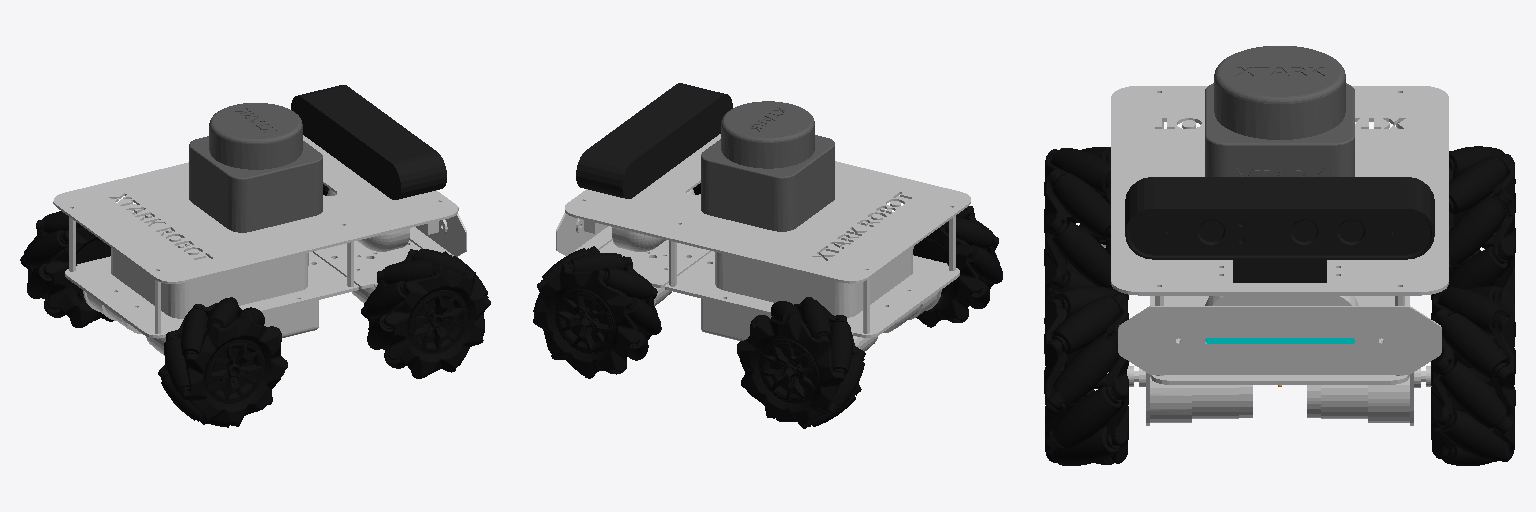
robot.urdf — tarkbot_robot:
<?xml version="1.0" encoding="utf-8"?>

<robot name="tarkbot_robot">

    <!-- 机器人底部中心原点 -->
    <link name="base_footprint">
        <visual>
            <geometry>
                <sphere radius="0.001" />
            </geometry>
        </visual>
    </link>

    <!-- 机器人底盘 -->
    <link name="base_link">
        <visual>
            <geometry>
                <mesh filename="package://tarkbot_description/meshes/base_r20_fwl.stl" />
            </geometry>
            <origin xyz="0 0 0" rpy="0 0 0" />
            <material name="base_color">
                <!-- <color rgba="0.000 0.500 0.500 1" /> -->
                <!-- <color rgba="0.000 0.000 1.000 1" /> -->
                <!-- <color rgba="1.000 0.500 0.000 1" /> -->
                <color rgba="0.800 0.800 0.800 1" />
            </material>
        </visual>
    </link>    

        <!-- 机器人轮子 -->
    <link name="wheel_fl">
        <visual>
            <geometry>
                <mesh filename="package://tarkbot_description/meshes/wheel/m100l.stl" />
            </geometry>
            <origin xyz="0 0 0" rpy="0 0 0" />
            <material name="wheel_color">
                <color rgba="0.1 0.1 0.1 1" />
            </material>
        </visual>
    </link>  

    <link name="wheel_fr">
        <visual>
            <geometry>
                <mesh filename="package://tarkbot_description/meshes/wheel/m100r.stl" />
            </geometry>
            <origin xyz="0 0 0" rpy="0 0 0" />
            <material name="wheel_color">
                <color rgba="0.1 0.1 0.1 1" />
            </material>
        </visual>
    </link>  

    <link name="wheel_bl">
        <visual>
            <geometry>
                <mesh filename="package://tarkbot_description/meshes/wheel/m100r.stl" />
            </geometry>
            <origin xyz="0 0 0" rpy="0 0 0" />
            <material name="wheel_color">
                <color rgba="0.1 0.1 0.1 1" />
            </material>
        </visual>
    </link>  

    <link name="wheel_br">
        <visual>
            <geometry>
                <mesh filename="package://tarkbot_description/meshes/wheel/m100l.stl" />
            </geometry>
            <origin xyz="0 0 0" rpy="0 0 0" />
            <material name="wheel_color">
                <color rgba="0.1 0.1 0.1 1" />
            </material>
        </visual>
    </link>  

    <!-- 机器人雷达 -->
    <link name="laser_link">
        <visual>
            <geometry>
                <mesh filename="package://tarkbot_description/meshes/laser.stl" />
            </geometry>
            <origin xyz="0 0 -0.06" rpy="0 0 0" />
            <material name="laser_color">
                <color rgba="0.4 0.4 0.4 1" />
            </material>
        </visual>
    </link> 

    <!-- 机器人摄像头 -->
    <link name="camera_link">
        <visual>
            <geometry>
                <mesh filename="package://tarkbot_description/meshes/depthcamera.stl" />
            </geometry>
            <origin xyz="-0.037 0 0" rpy="0 0 0" />
            <material name="camera_color">
                <color rgba="0.15 0.15 0.15 1" />
            </material>
        </visual>
    </link>

    <!-- 机器人IMU传感器 -->
    <link name="imu_link">
        <visual>
            <geometry>
                <sphere radius="0.010" />
            </geometry>
            <origin xyz="0 0 0" rpy="0 0 0" />
            <material name="imu_color">
                <color rgba="1 1 0 1" />
            </material>
        </visual>
    </link>

    <!-- 机器人前灯 -->
    <link name="light_link">
        <visual>
            <geometry>
                <mesh filename="package://tarkbot_description/meshes/light.stl" />
            </geometry>
            <origin xyz="0 0 0" rpy="0 0 0" />
            <material name="light_color">
                <color rgba="0.0 1.0 1.0 1" />
            </material>
        </visual>
    </link>

    <!-- 底盘与原点连接的关节 -->
    <joint name="baselink2footprint" type="fixed">
        <origin xyz="0 0 0.1155" rpy="0 0 0"/>
        <parent link="base_footprint" />
        <child  link="base_link" />
    </joint>

        <!-- 轮子到与底盘连接的关节 -->
    <joint name="wheelfl2base" type="fixed">
        <origin xyz="0.088 0.096 -0.069" rpy="0 0 1.57"/>
        <parent link="base_link" />
        <child  link="wheel_fl" />
    </joint>

    <joint name="wheelfr2base" type="fixed">
        <origin xyz="0.088 -0.096 -0.069" rpy="0 0 -1.57"/>
        <parent link="base_link" />
        <child  link="wheel_fr" />
    </joint>

    <joint name="wheelbl2base" type="fixed">
        <origin xyz="-0.088 0.096 -0.069" rpy="0 0 1.57"/>
        <parent link="base_link" />
        <child  link="wheel_bl" />
    </joint>

    <joint name="wheelbr2base" type="fixed">
        <origin xyz="-0.088 -0.096 -0.069" rpy="0 0 -1.57"/>
        <parent link="base_link" />
        <child  link="wheel_br" />
    </joint>

    <!-- 雷达到与底盘连接的关节 -->
    <joint name="laser2base" type="fixed">
        <origin xyz="0 0 0.06" rpy="0 0 0"/>
        <parent link="base_link" />
        <child  link="laser_link" />
    </joint>

    <!-- 深度摄像头与底盘连接的关节 -->
    <joint name="camera2base" type="fixed">
        <origin xyz="0.115 0 0.0285" rpy="0 0 0"/>
        <parent link="base_link" />
        <child  link="camera_link" />
    </joint>

    <!-- IMU传感器与底盘连接的关节 -->
    <joint name="imu2base" type="fixed">
        <origin xyz="0 0 0" rpy="0 0 0"/>
        <parent link="base_link" />
        <child  link="imu_link" />
    </joint>

    <!-- 前灯与底盘连接的关节 -->
    <joint name="light2base" type="fixed">
        <origin xyz="0.133 0 -0.027 " rpy="0 0 0"/>
        <parent link="base_link" />
        <child  link="light_link" />
    </joint>

</robot>

--- What the picture shows (computed from the rendered views, not written in the file) ---
3 views of the same robot in one strip: view 1: azimuth 30°, elevation 25°; view 2: azimuth 150°, elevation 25°; view 3: azimuth 270°, elevation 25° (orthographic).
Robot: tarkbot_robot — 10 links, 9 joints (9 fixed); root link base_footprint; default pose: all joints at 0.
Links seen in each view (by area): view 1: base_link, laser_link, wheel_br, wheel_fr, camera_link, wheel_bl; view 2: base_link, laser_link, wheel_fl, wheel_bl, camera_link, wheel_br; view 3: base_link, camera_link, laser_link, wheel_fr, wheel_fl, wheel_br, wheel_bl, light_link.
Boxes of the visible links, x1=… form: base_link: x1=53, y1=135, x2=466, y2=355; laser_link: x1=189, y1=103, x2=322, y2=232; wheel_br: x1=158, y1=297, x2=287, y2=427; wheel_fr: x1=361, y1=249, x2=490, y2=378; camera_link: x1=291, y1=85, x2=446, y2=199; wheel_bl: x1=20, y1=211, x2=113, y2=327; base_link: x1=556, y1=134, x2=970, y2=351; laser_link: x1=701, y1=101, x2=834, y2=231; wheel_fl: x1=533, y1=246, x2=661, y2=378; wheel_bl: x1=737, y1=297, x2=865, y2=428; camera_link: x1=576, y1=83, x2=732, y2=198; wheel_br: x1=913, y1=206, x2=1002, y2=327; base_link: x1=1101, y1=86, x2=1448, y2=425; camera_link: x1=1125, y1=177, x2=1434, y2=282; laser_link: x1=1205, y1=46, x2=1354, y2=176; wheel_fr: x1=1044, y1=286, x2=1128, y2=465; wheel_fl: x1=1431, y1=286, x2=1515, y2=465; wheel_br: x1=1044, y1=147, x2=1128, y2=300; wheel_bl: x1=1431, y1=146, x2=1515, y2=299; light_link: x1=1205, y1=338, x2=1354, y2=343.
Size in the robot's own frame: 0.2719 by 0.2507 by 0.186 metres.
8 mesh visuals loaded from 6 distinct referenced files (6 binary STL).